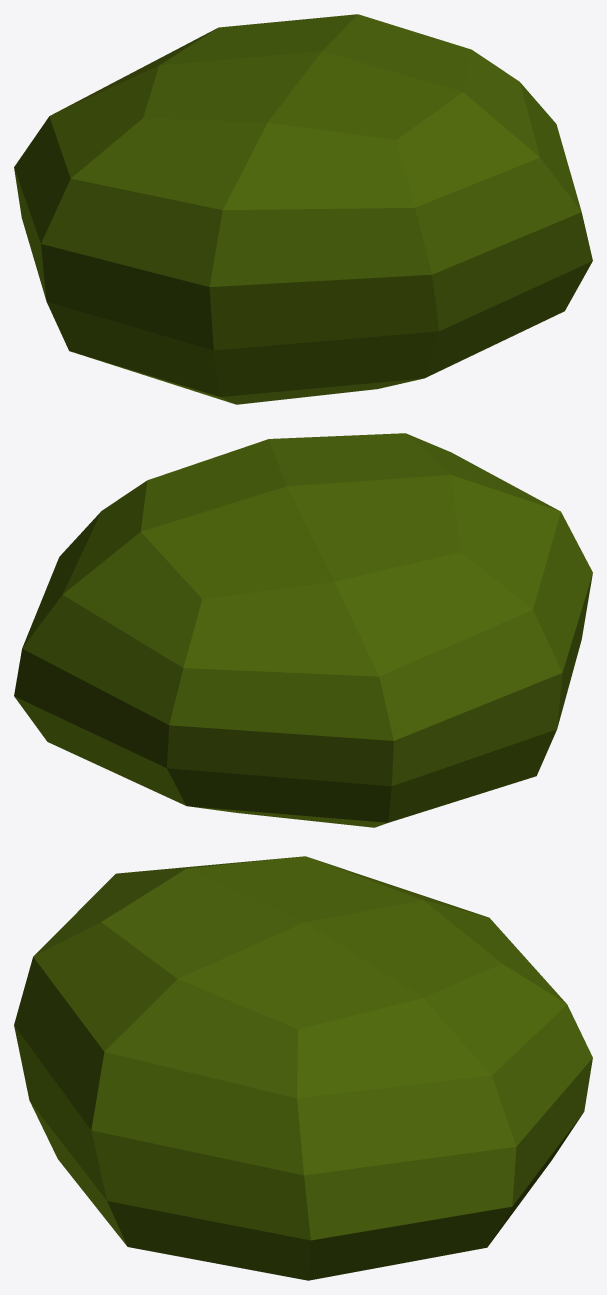
The model's file is ArbustoPequenio.fbx.
3 renders of one model, top to bottom at view 1: azimuth 30°, elevation 25°; view 2: azimuth 150°, elevation 25°; view 3: azimuth 270°, elevation 25°, orthographic. The views are drawn at different scales.
Parts seen in each view (by area): view 1: Cube; view 2: Cube; view 3: Cube.
Boxes of the visible parts, <box> form: Cube: <box>14,14,592,404</box>; Cube: <box>14,433,592,827</box>; Cube: <box>14,856,592,1280</box>.
Bounding box in the file's own units: 253 × 130 × 230.
